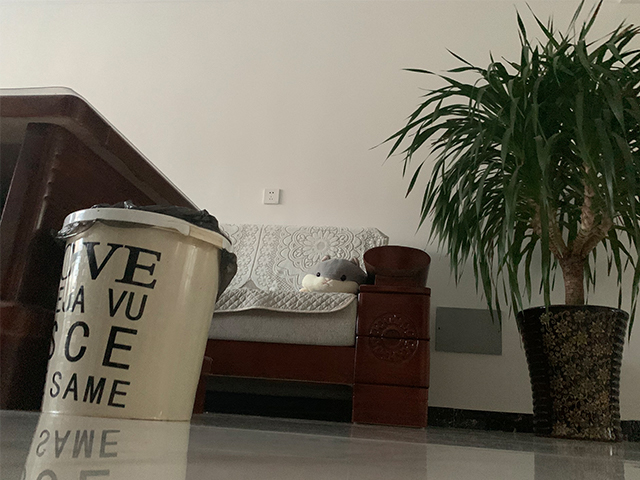sofa: (202, 222, 433, 431)
trashcan: (40, 206, 234, 423)
